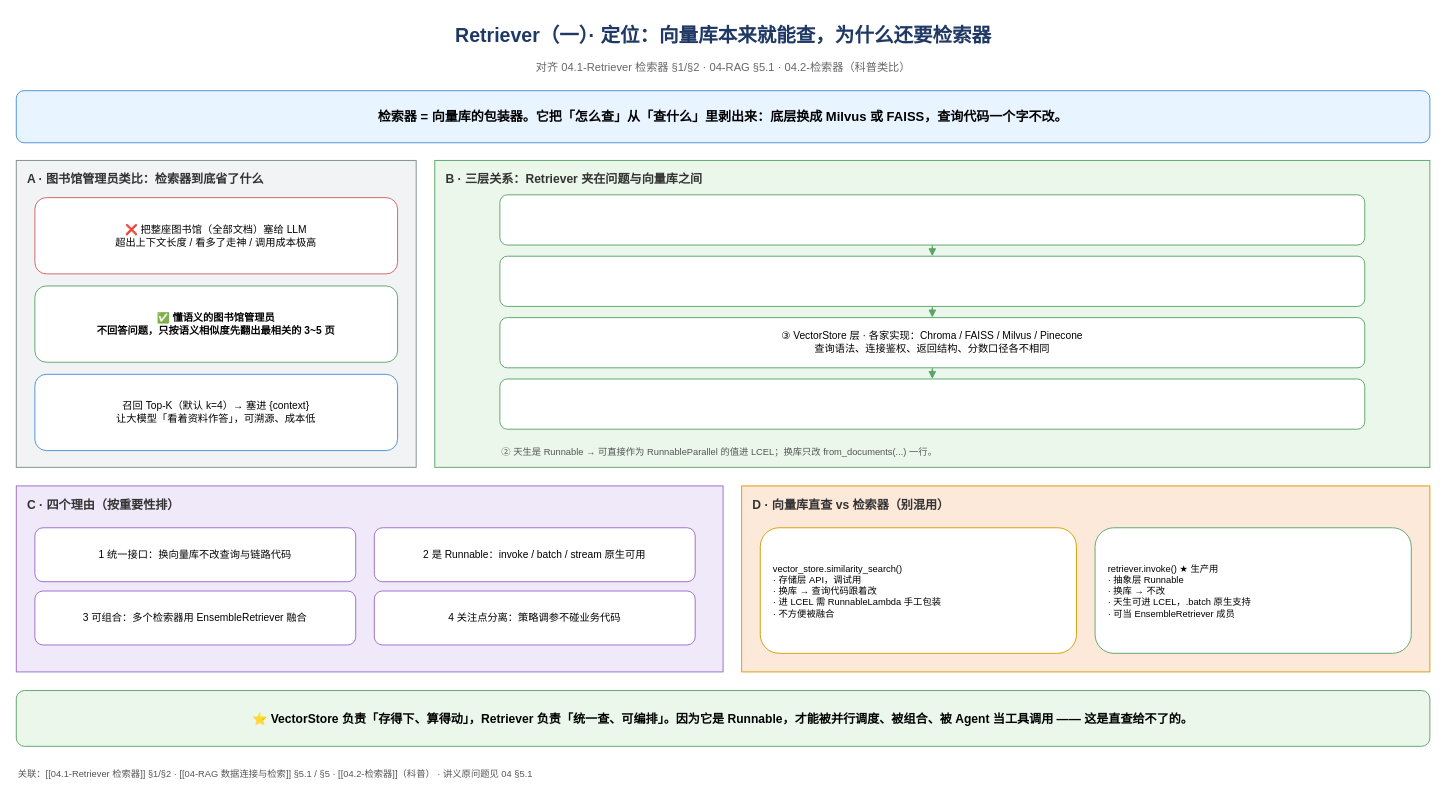
This 1446x804 diagram has some shape labels left out. The shapes that lost their labels are listed below. From the top down, each one's centre as x and y in pixels, then its label:
At point (932, 219): "① 用户问题（str）：「张成刚是谁？」".
At point (932, 280): "② Retriever 层 · 统一接口：VectorStoreRetriever invoke / batch / stream，本身就是 Runnable".
At point (932, 403): "④ List[Document] → context → Prompt → LLM".
